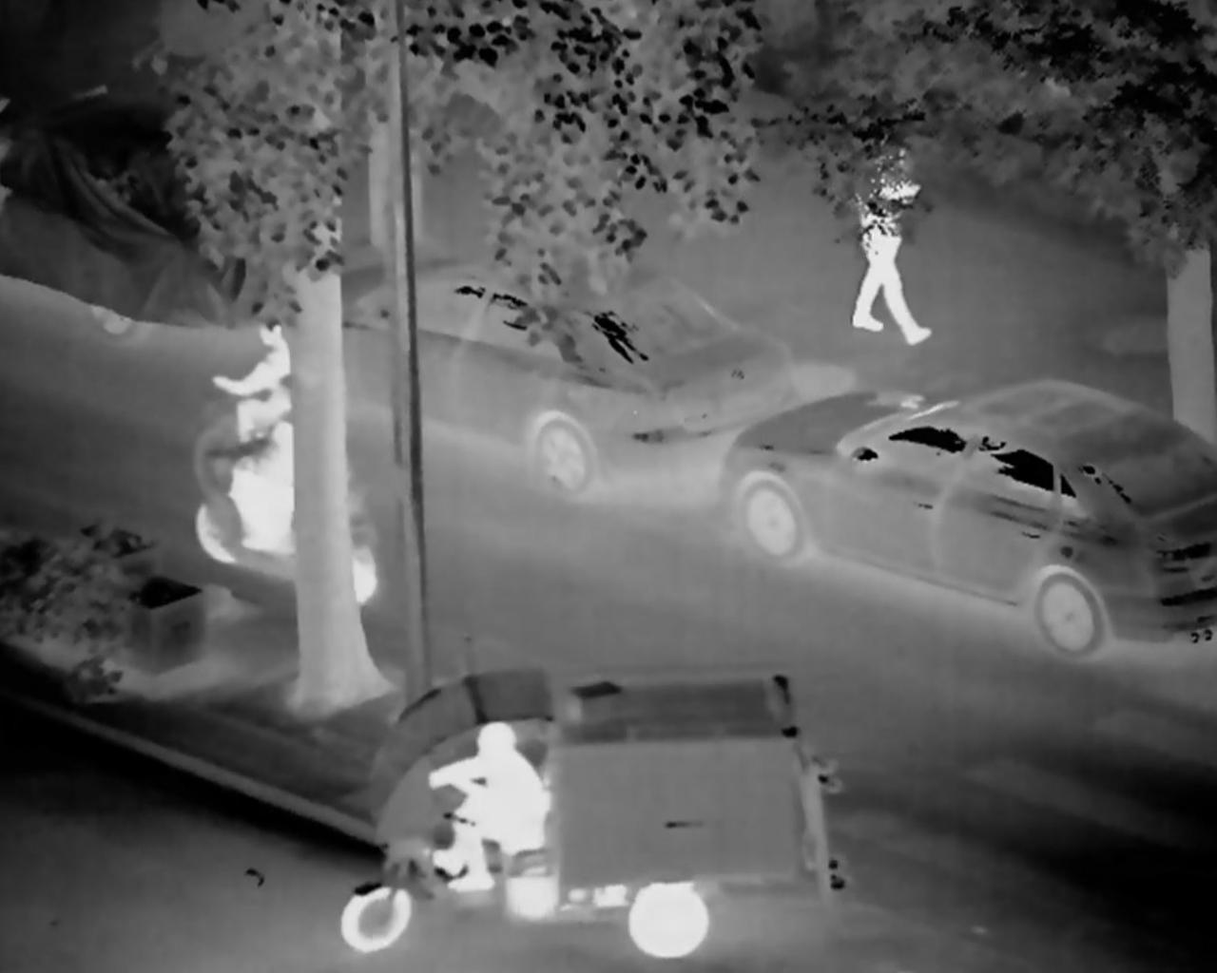person: (431, 724, 560, 911), (853, 128, 948, 352), (228, 377, 295, 557), (214, 315, 287, 437)
